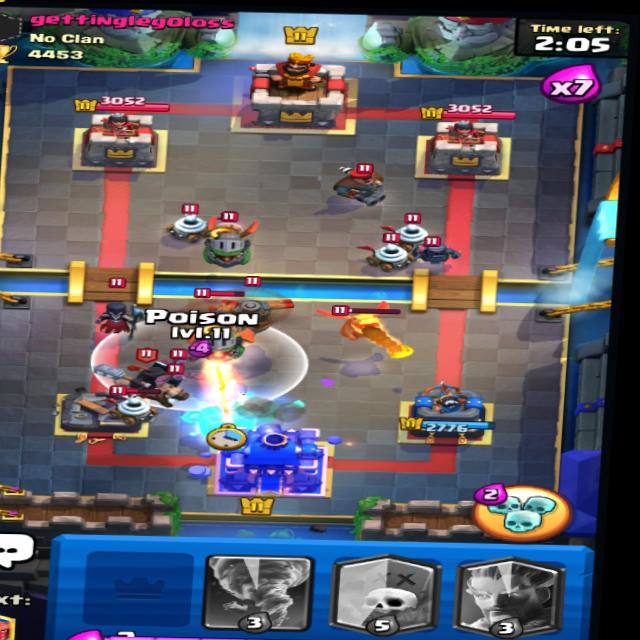Babydragon: (313, 294, 415, 346)
Bat: (158, 360, 195, 391)
Darkprince: (125, 345, 196, 406)
Flyingmachine: (214, 274, 295, 336)
Infernodragon: (198, 203, 268, 262), (185, 314, 262, 362)
Minipekka: (404, 230, 468, 274)
Nightwitch: (93, 278, 140, 339)
Zappies: (103, 376, 173, 421), (358, 229, 419, 268), (388, 208, 429, 251), (166, 200, 212, 238)
hunter: (317, 149, 389, 202)
